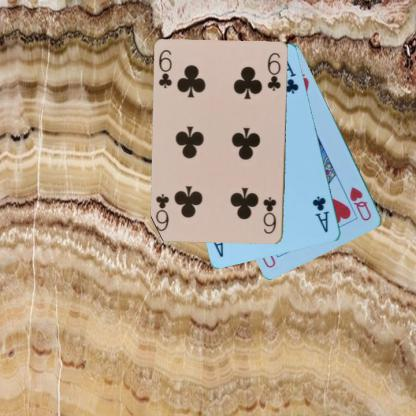6c: (156, 48, 174, 90), (260, 194, 278, 235)
Ac: (310, 194, 330, 234)
Qh: (347, 184, 373, 222)
